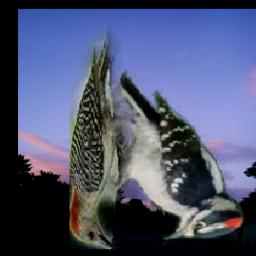Woodpecker: (108, 71, 247, 245), (69, 25, 138, 249)
